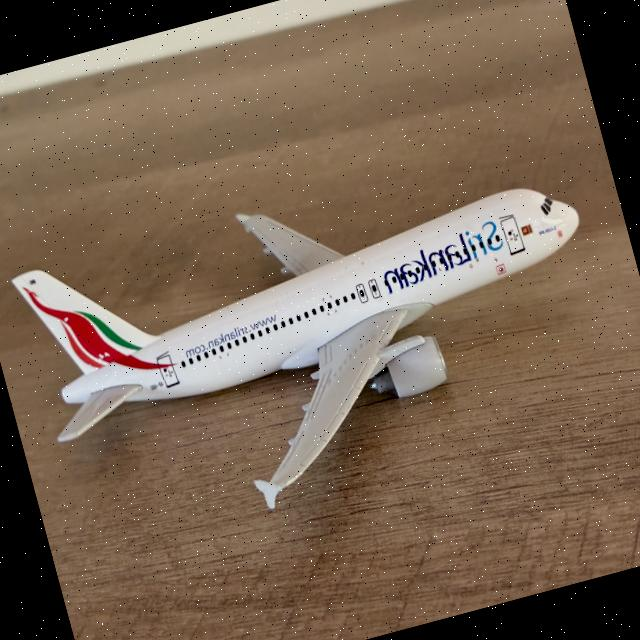air-plane: (13, 189, 578, 508)
cars: (13, 189, 578, 508)
